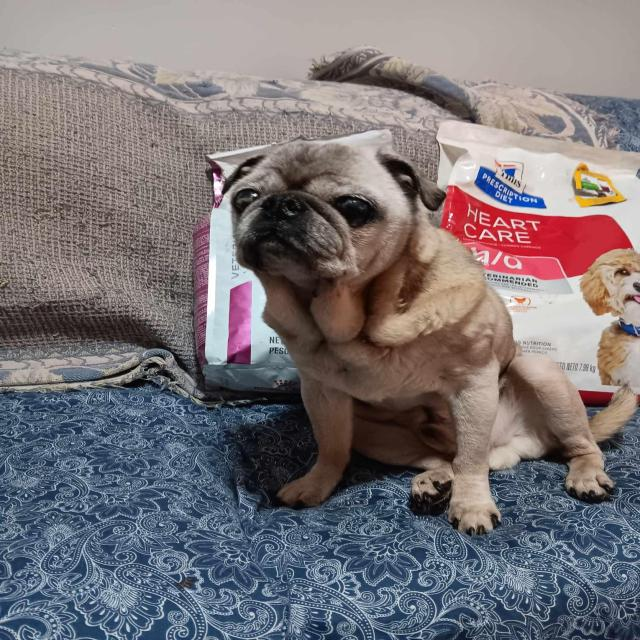pug_dog: (215, 141, 456, 307)
